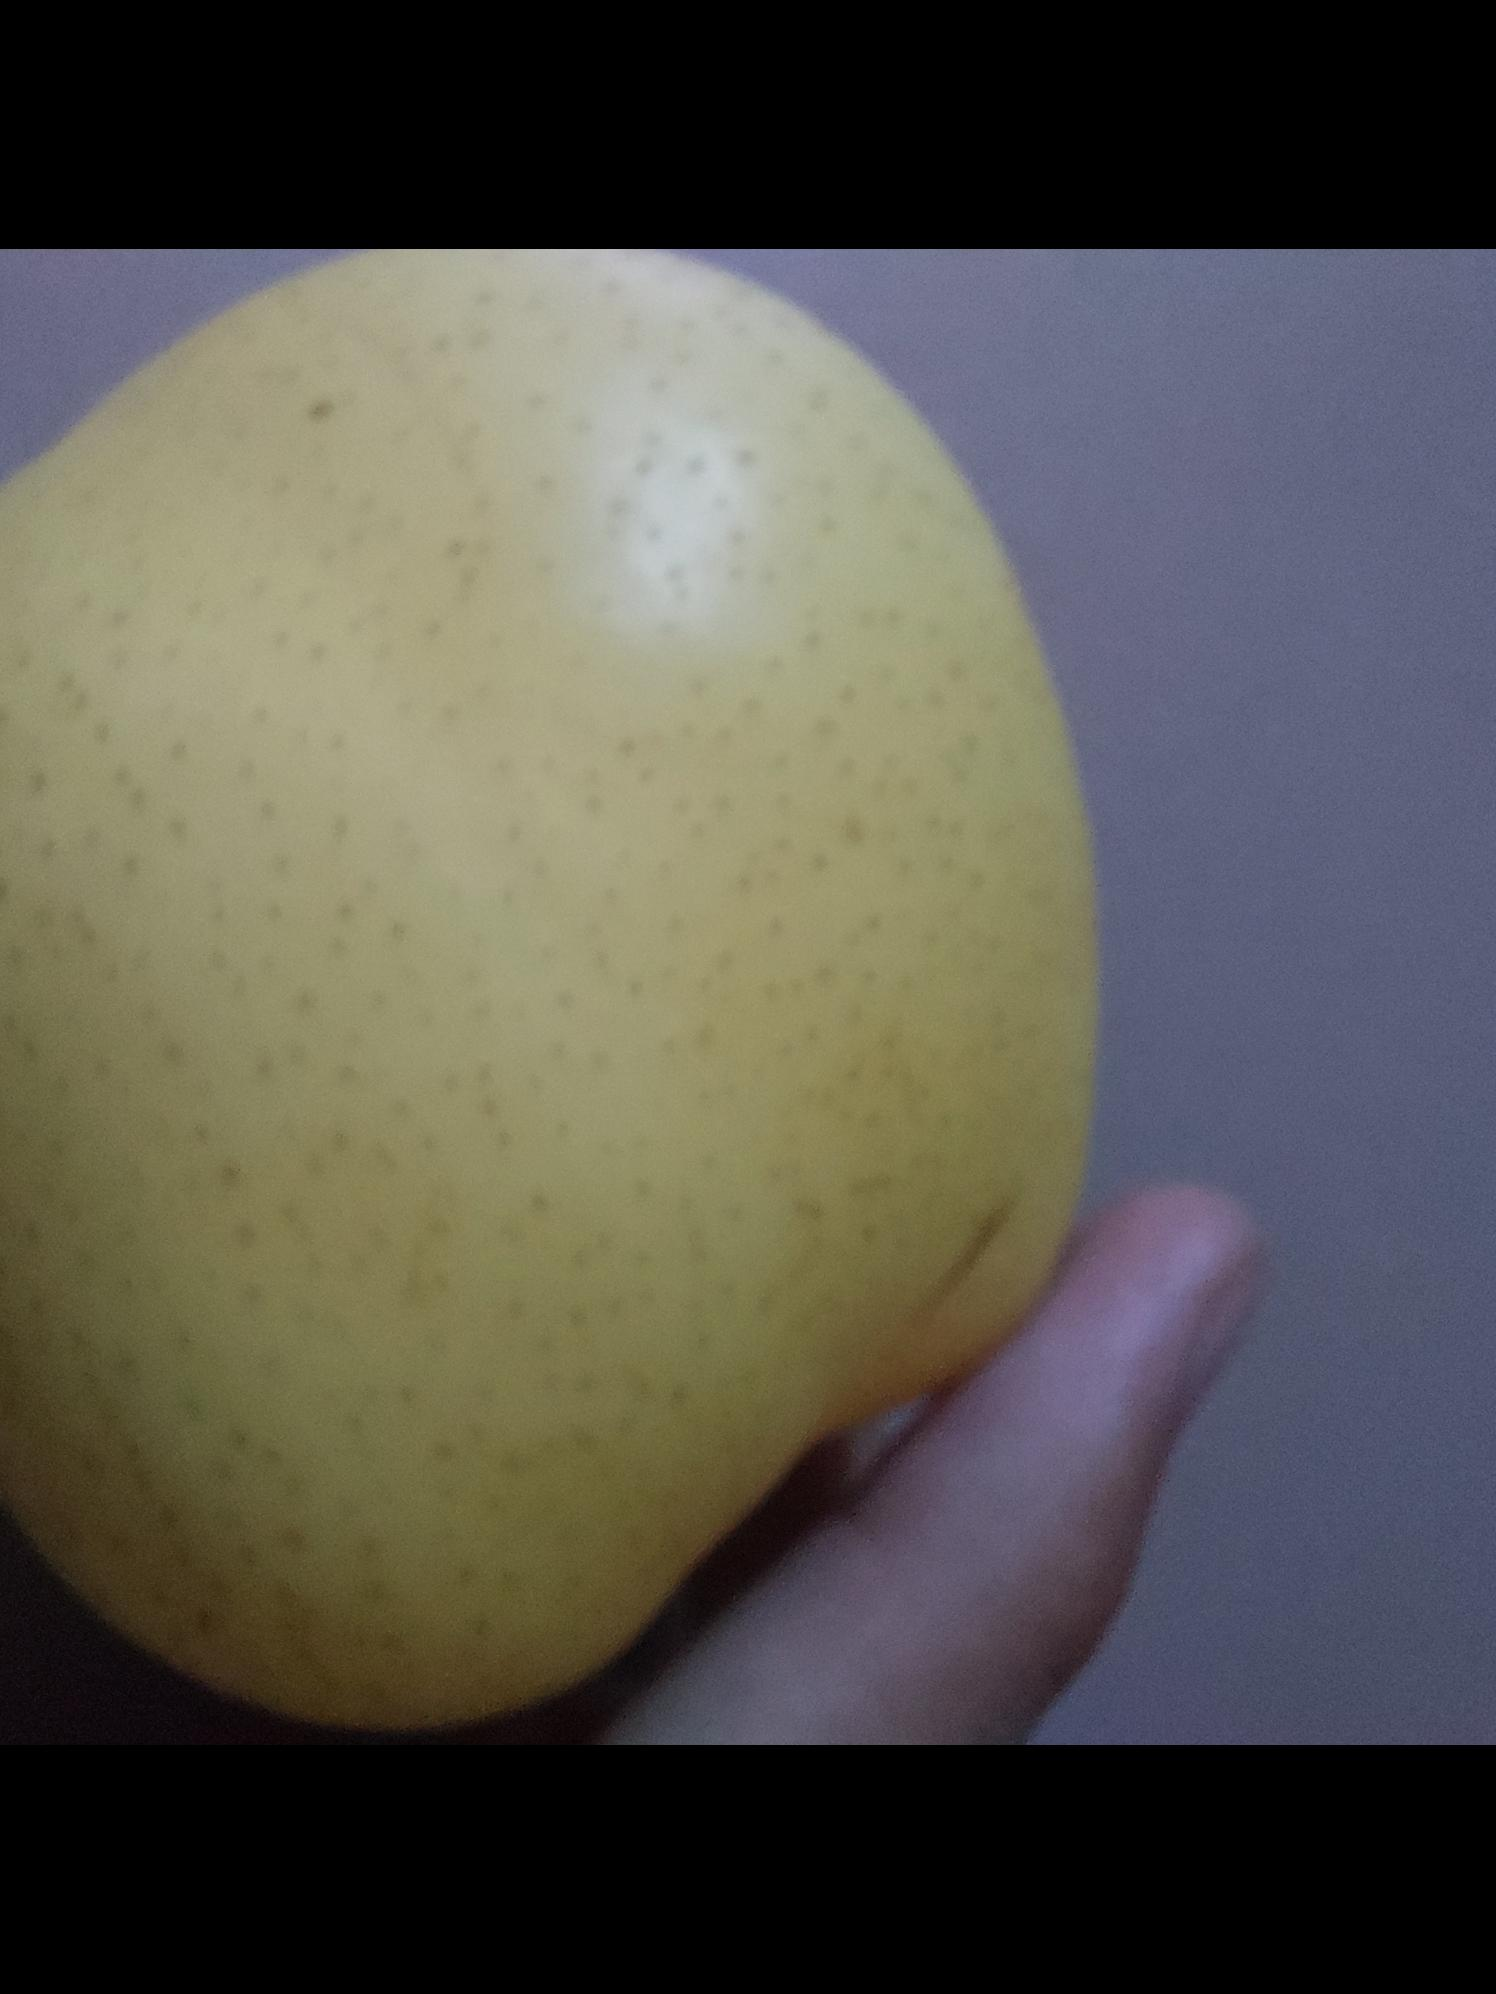Good Pear: (0, 249, 1106, 1728)
